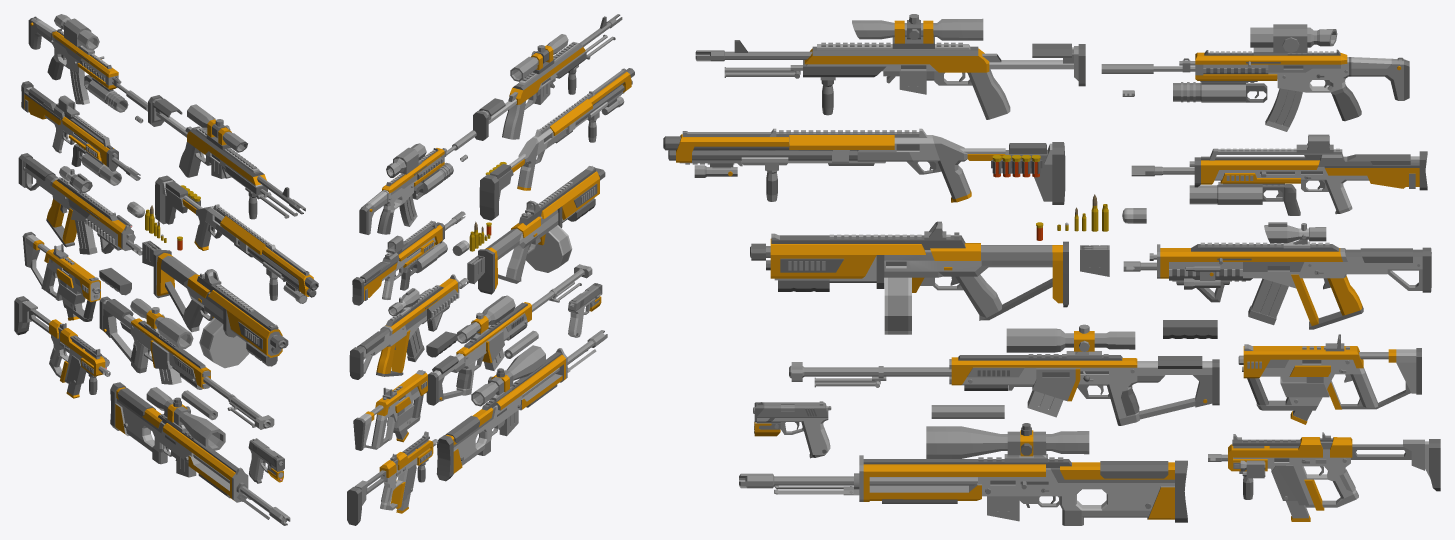
The model's file is uploads_files_860528_LPGP+ALL.fbx.
3 views of the same model, side by side, from view 1: azimuth 30°, elevation 25°; view 2: azimuth 150°, elevation 25°; view 3: azimuth 270°, elevation 25° (orthographic). The views are drawn at different scales.
Visible parts, largest first — view 1: SR_B1_Frame_mesh, S_A2_Frame_mesh, SR_A1_Frame_mesh, AR_A2_Frame_mesh, DMR_A1_Frame_mesh, S_A1_Frame_mesh, SMG_A1_Frame_mesh, SMG_B1_Frame_mesh, AR_A1_Frame_mesh, AR_A3_Frame_mesh, ScopeC_mesh, S_A2_Drum_mesh (+13 smaller); view 2: SR_B1_Frame_mesh, S_A2_Frame_mesh, AR_A2_Frame_mesh, SR_A1_Frame_mesh, DMR_A1_Frame_mesh, SMG_A1_Frame_mesh, S_A1_Frame_mesh, SMG_B1_Frame_mesh, AR_A1_Frame_mesh, AR_A3_Frame_mesh, ScopeC_mesh, S_A2_Drum_mesh (+14 smaller); view 3: SR_B1_Frame_mesh, S_A2_Frame_mesh, SR_A1_Frame_mesh, AR_A2_Frame_mesh, S_A1_Frame_mesh, DMR_A1_Frame_mesh, AR_A1_Frame_mesh, SMG_A1_Frame_mesh, SMG_B1_Frame_mesh, AR_A3_Frame_mesh, ScopeC_mesh, ScopeB_mesh (+15 smaller).
Boxes of the visible parts, x1,y1,x2,y2 form: SR_B1_Frame_mesh: [110, 382, 272, 512]; S_A2_Frame_mesh: [153, 250, 288, 358]; SR_A1_Frame_mesh: [99, 296, 261, 419]; AR_A2_Frame_mesh: [18, 153, 135, 250]; DMR_A1_Frame_mesh: [148, 95, 291, 203]; S_A1_Frame_mesh: [194, 204, 318, 297]; SMG_A1_Frame_mesh: [14, 296, 105, 394]; SMG_B1_Frame_mesh: [22, 232, 100, 321]; AR_A1_Frame_mesh: [21, 81, 129, 171]; AR_A3_Frame_mesh: [28, 16, 128, 93]; ScopeC_mesh: [146, 387, 225, 451]; S_A2_Drum_mesh: [199, 317, 249, 368]; SR_B1_Frame_mesh: [436, 340, 593, 481]; S_A2_Frame_mesh: [478, 166, 605, 294]; AR_A2_Frame_mesh: [349, 274, 461, 379]; SR_A1_Frame_mesh: [426, 270, 583, 405]; DMR_A1_Frame_mesh: [473, 16, 611, 140]; SMG_A1_Frame_mesh: [347, 431, 433, 525]; S_A1_Frame_mesh: [517, 68, 634, 190]; SMG_B1_Frame_mesh: [353, 370, 427, 450]; AR_A1_Frame_mesh: [352, 218, 456, 305]; AR_A3_Frame_mesh: [359, 145, 456, 234]; ScopeC_mesh: [471, 345, 545, 406]; S_A2_Drum_mesh: [526, 225, 572, 272]; SR_B1_Frame_mesh: [774, 455, 1187, 525]; S_A2_Frame_mesh: [750, 232, 1068, 320]; SR_A1_Frame_mesh: [804, 354, 1219, 425]; AR_A2_Frame_mesh: [1140, 242, 1431, 329]; S_A1_Frame_mesh: [663, 128, 971, 202]; DMR_A1_Frame_mesh: [725, 40, 1085, 119]; AR_A1_Frame_mesh: [1155, 148, 1427, 214]; SMG_A1_Frame_mesh: [1221, 432, 1440, 510]; SMG_B1_Frame_mesh: [1238, 344, 1421, 410]; AR_A3_Frame_mesh: [1153, 49, 1409, 121]; ScopeC_mesh: [926, 423, 1089, 462]; ScopeB_mesh: [1006, 324, 1135, 358].
Size of the model in its own units: 15.32 by 129 by 179.
